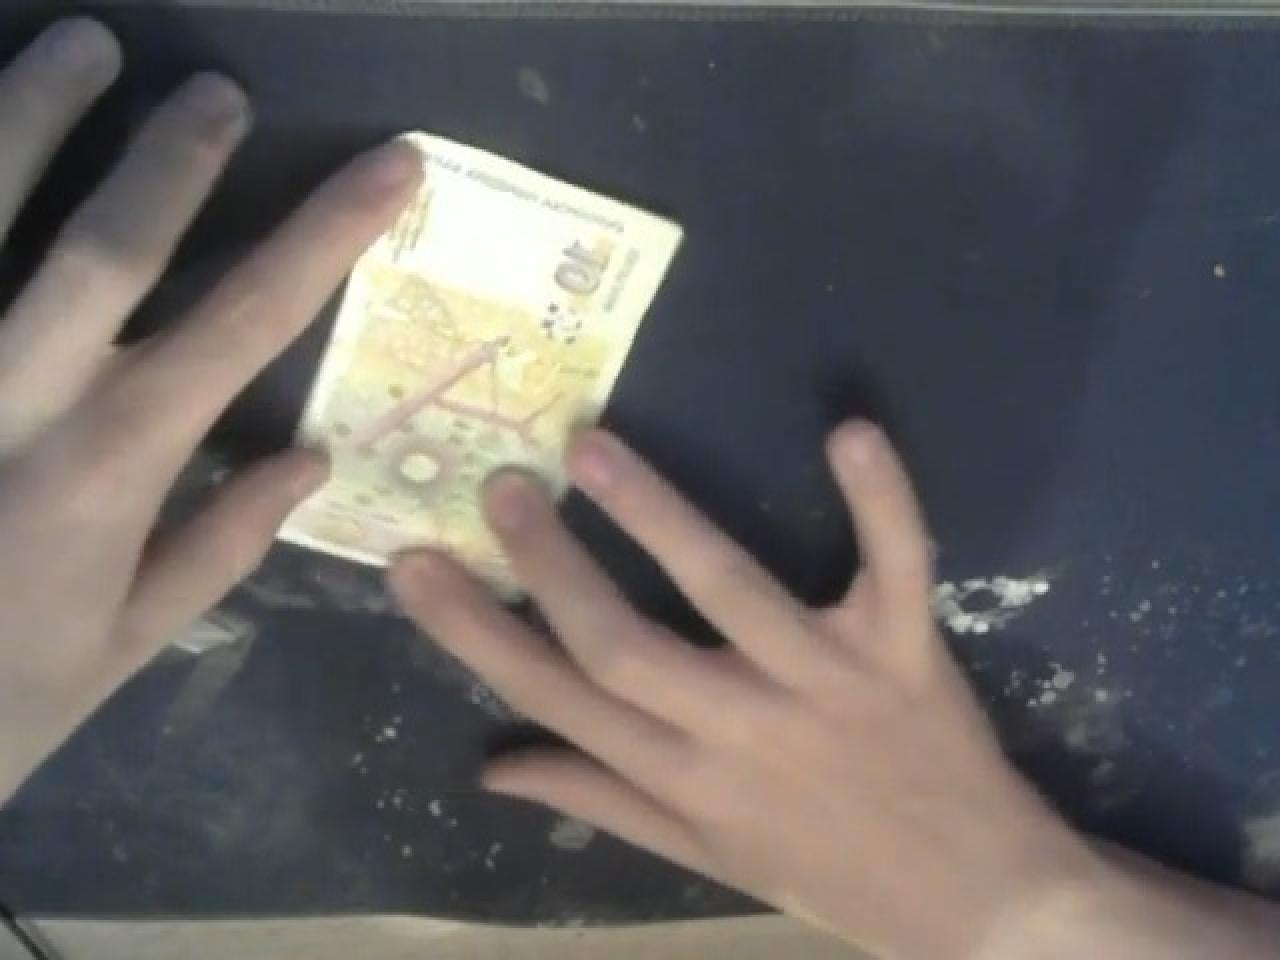10leva: (528, 209, 627, 324)
